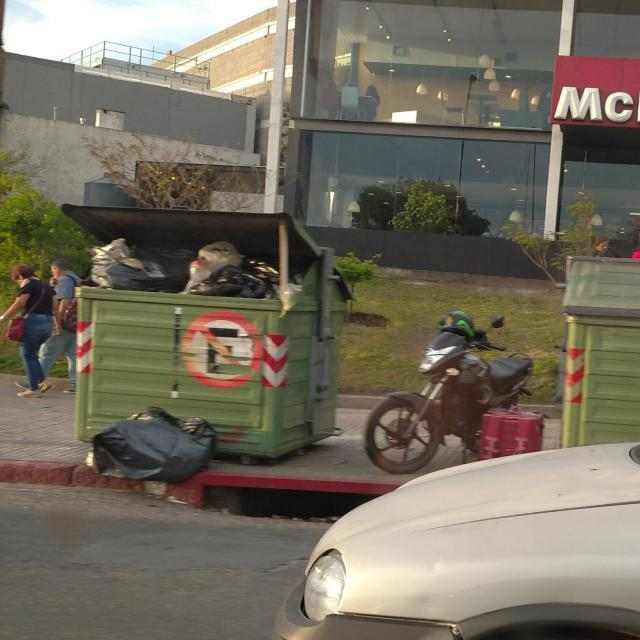garbage: (55, 408, 248, 486), (87, 243, 306, 301)
